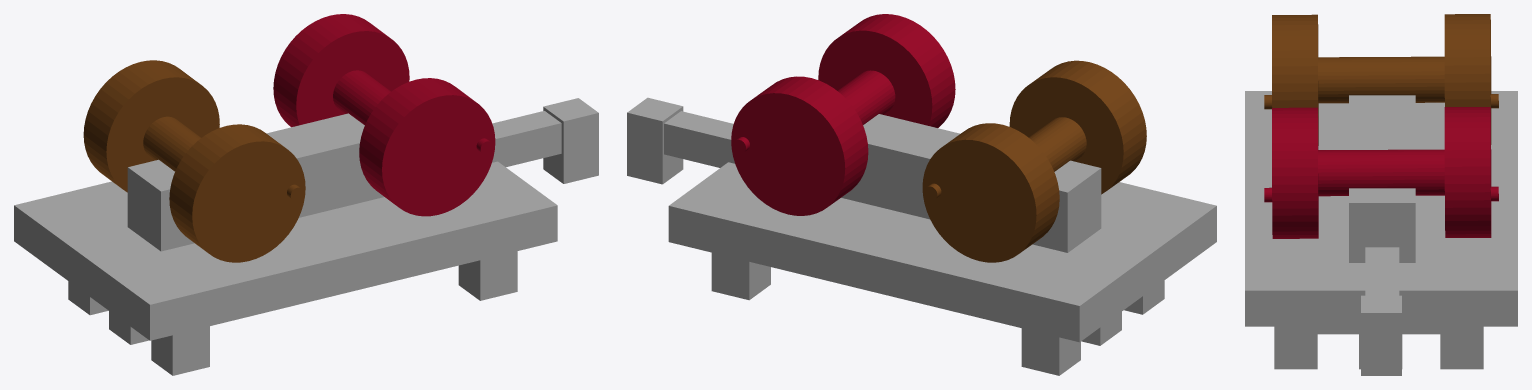
Rendered from chexiang.fbx.
3 renders of one model, left to right at view 1: azimuth 30°, elevation 25°; view 2: azimuth 150°, elevation 25°; view 3: azimuth 270°, elevation 25°, orthographic.
Parts seen in each view (by area): view 1: Cube.016; view 2: Cube.016; view 3: Cube.016.
Boxes of the visible parts, bbox=[...] form: Cube.016: bbox=[14, 14, 598, 375]; Cube.016: bbox=[627, 14, 1216, 375]; Cube.016: bbox=[1245, 14, 1517, 375].
Size of the model in its own units: 785 by 321 by 365.
